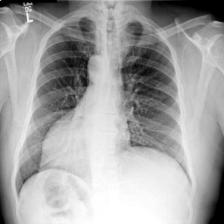normal: (9, 15, 194, 203)
